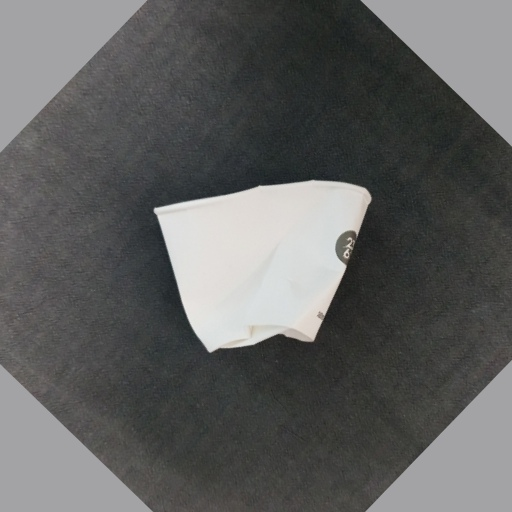Paper_1: (153, 170, 374, 352)
